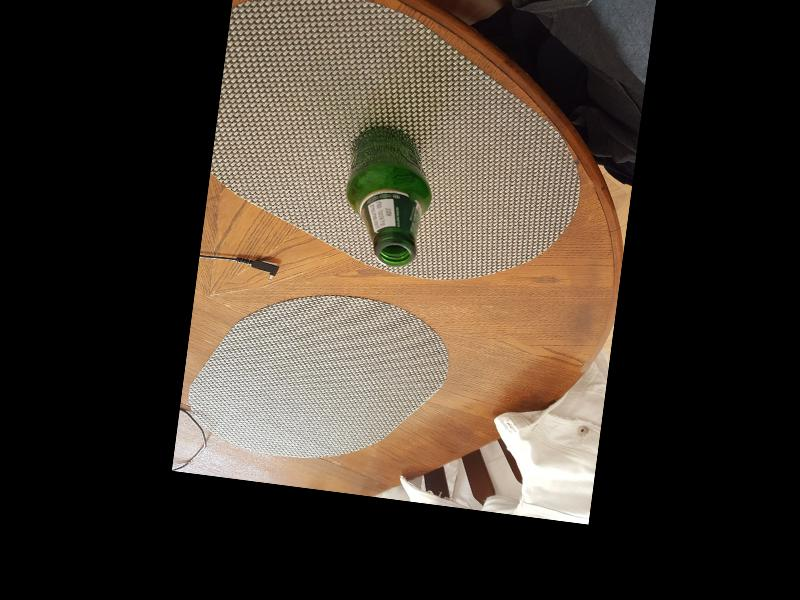Beer: (338, 122, 440, 268)
